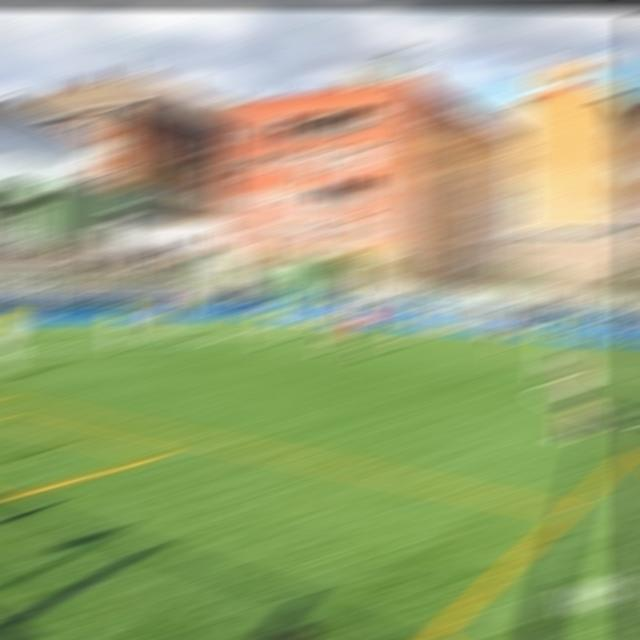bigarea_top_inner: (302, 327, 328, 333)
bigarea_top_outter: (189, 317, 210, 323)
bottom_arc_area_intersection: (49, 340, 79, 357)
corner: (248, 314, 267, 320)
smallarea_top_inner: (123, 320, 150, 331)
smallarea_top_outter: (89, 316, 113, 326)
top_arc_area_intersection: (209, 328, 237, 341)
